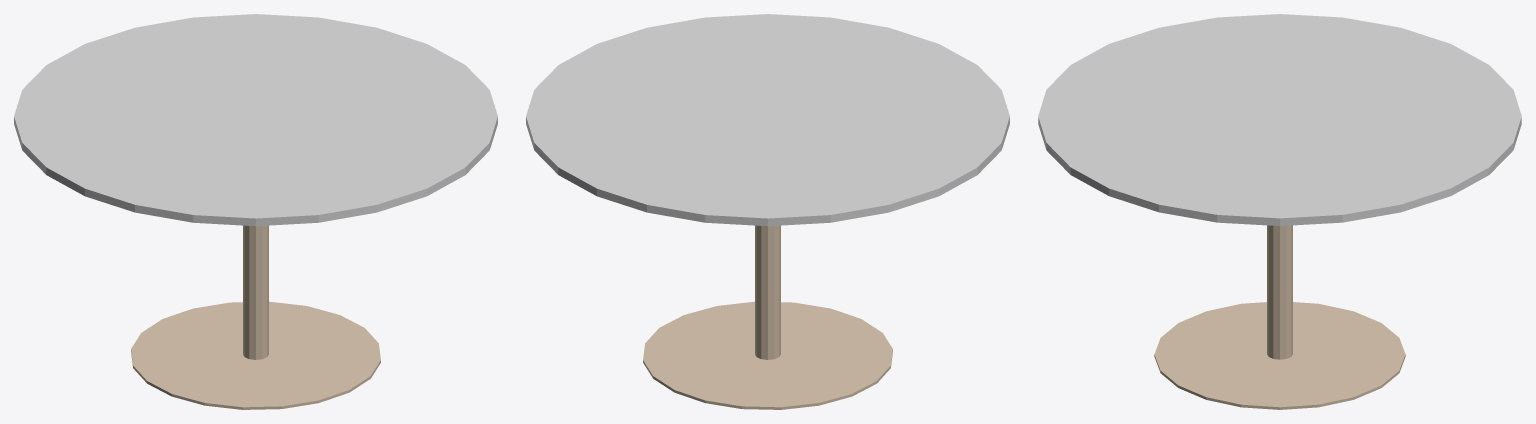
File: StandingTableRound.fbx
The picture shows the model from 3 angles, left to right: view 1: azimuth 30°, elevation 25°; view 2: azimuth 150°, elevation 25°; view 3: azimuth 270°, elevation 25°; orthographic projection.
Parts seen in each view (by area): view 1: Table; view 2: Table; view 3: Table.
Part boxes in pixels (x1,y1,x2,y2): Table: (14,14,497,409); Table: (526,14,1009,409); Table: (1038,14,1521,409).
Size of the model in its own units: 130 by 71.4 by 130.
